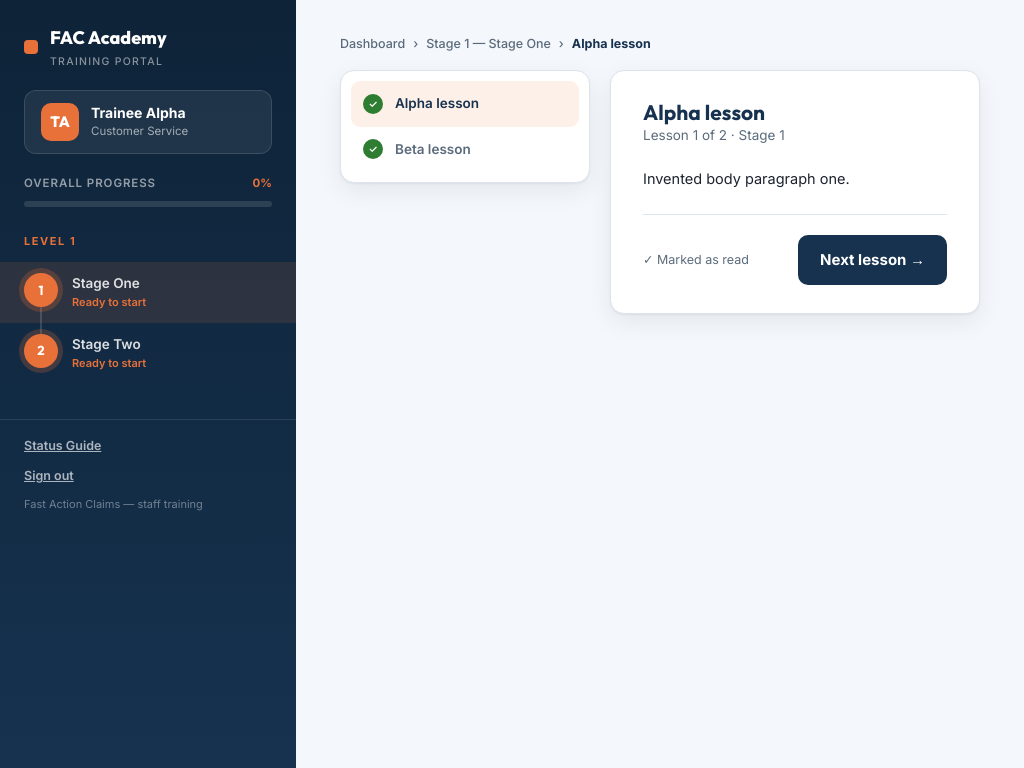
Test: Lesson reader › prev/next moves between lessons and scrolls to the top every time
The width and height of the screenshot is (1024, 768).
Check: the heading "Alpha lesson" is shown, box x1=643 y1=99 x2=765 y2=125
Click the link "Next lesson →": (873,260) x1=798 y1=235 x2=947 y2=285
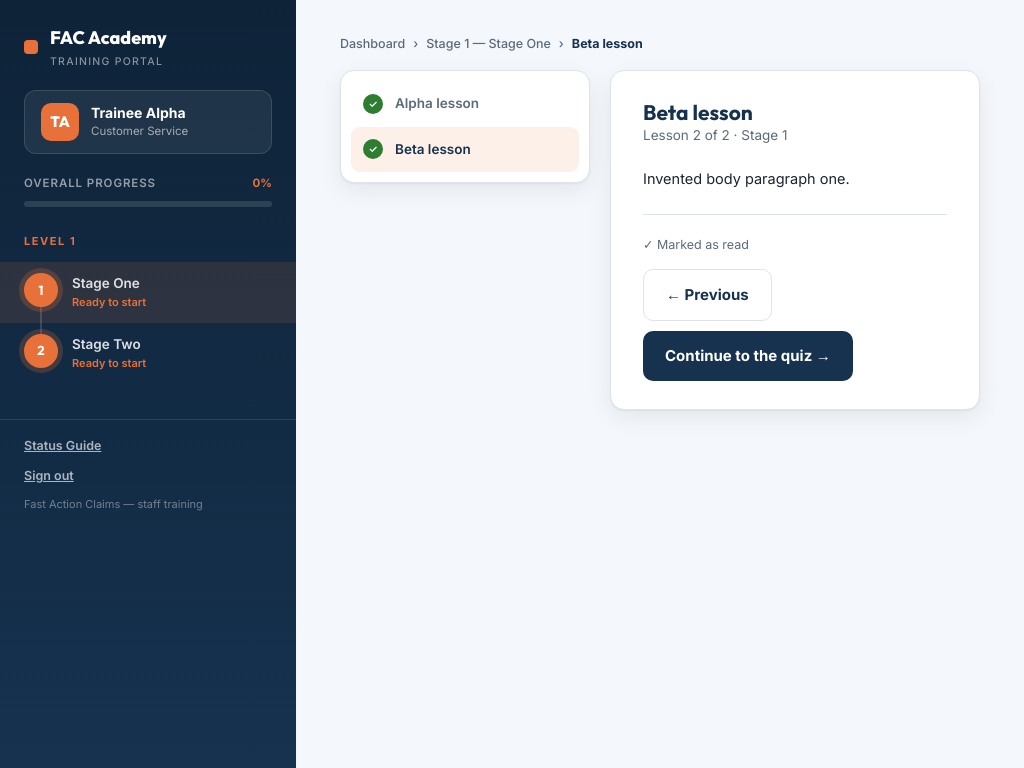
Check: the heading "Beta lesson" is shown, box x1=643 y1=99 x2=753 y2=125
Click the link "← Previous": (707,295) x1=643 y1=269 x2=772 y2=321
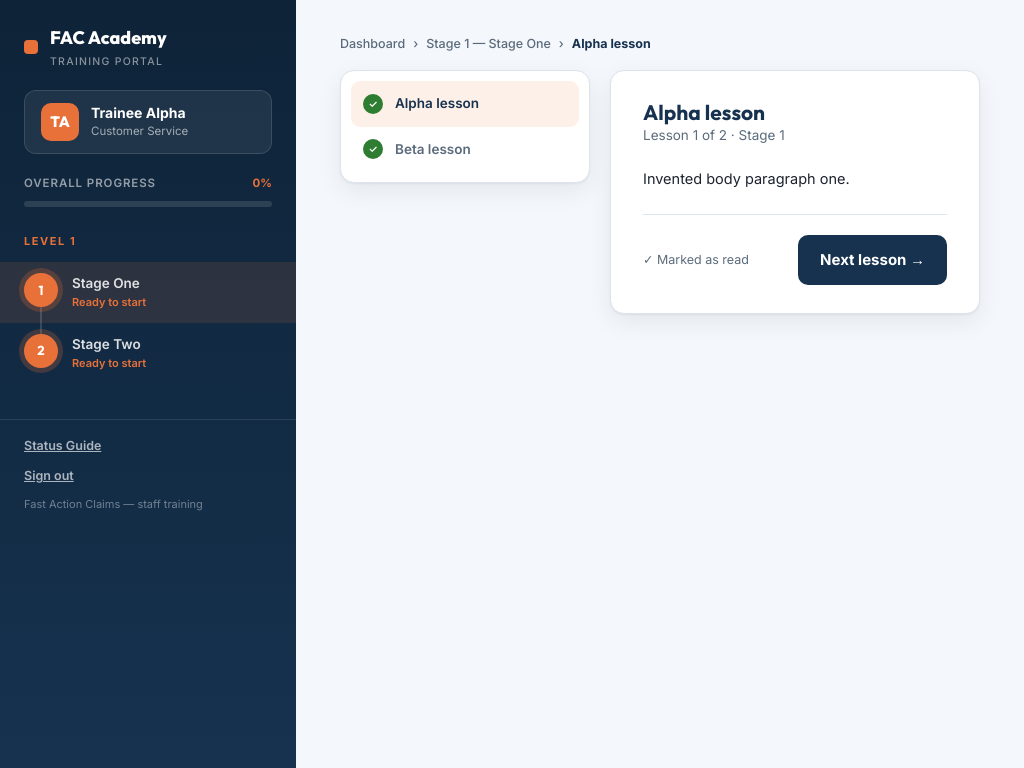
Check: the heading "Alpha lesson" is shown, box x1=643 y1=99 x2=765 y2=125
